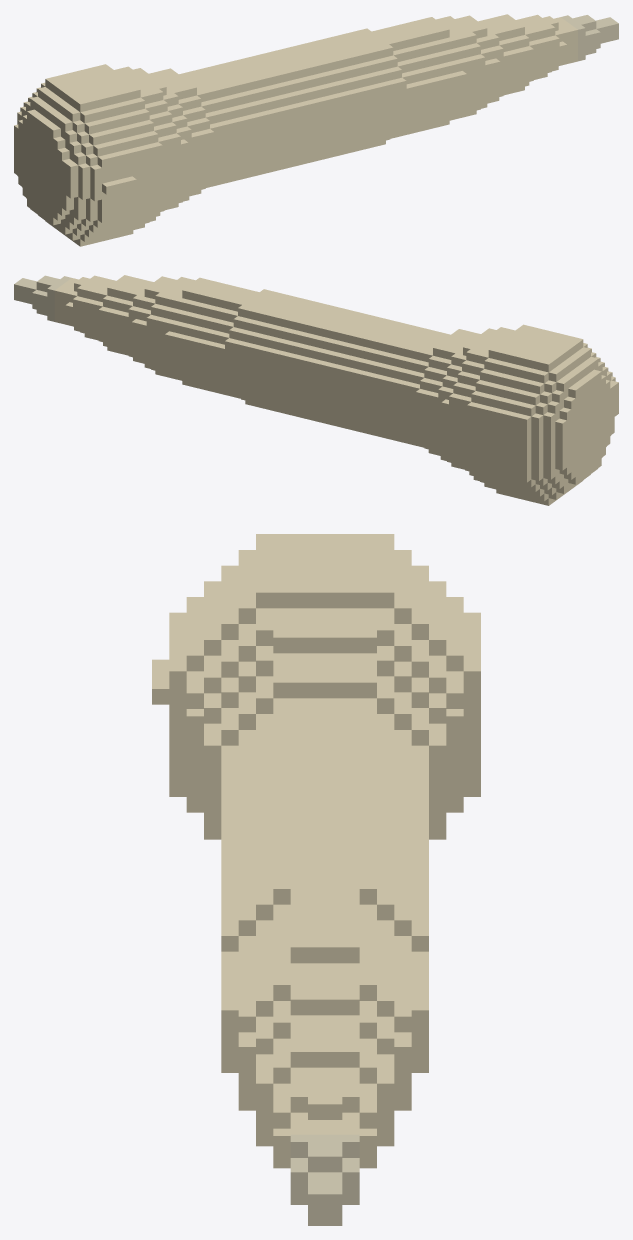
File: punch_bone.glb
3 renders of one model, top to bottom at view 1: azimuth 30°, elevation 25°; view 2: azimuth 150°, elevation 25°; view 3: azimuth 270°, elevation 25°, orthographic. The views are drawn at different scales.
Parts seen in each view (by area): view 1: punch_bone:compound; view 2: punch_bone:compound; view 3: punch_bone:compound.
Boxes of the visible parts, <box> form: punch_bone:compound: <box>14,14,618,246</box>; punch_bone:compound: <box>14,275,618,505</box>; punch_bone:compound: <box>152,534,480,1225</box>.
Size of the model in its own units: 0.152 by 0.036 by 0.038.
